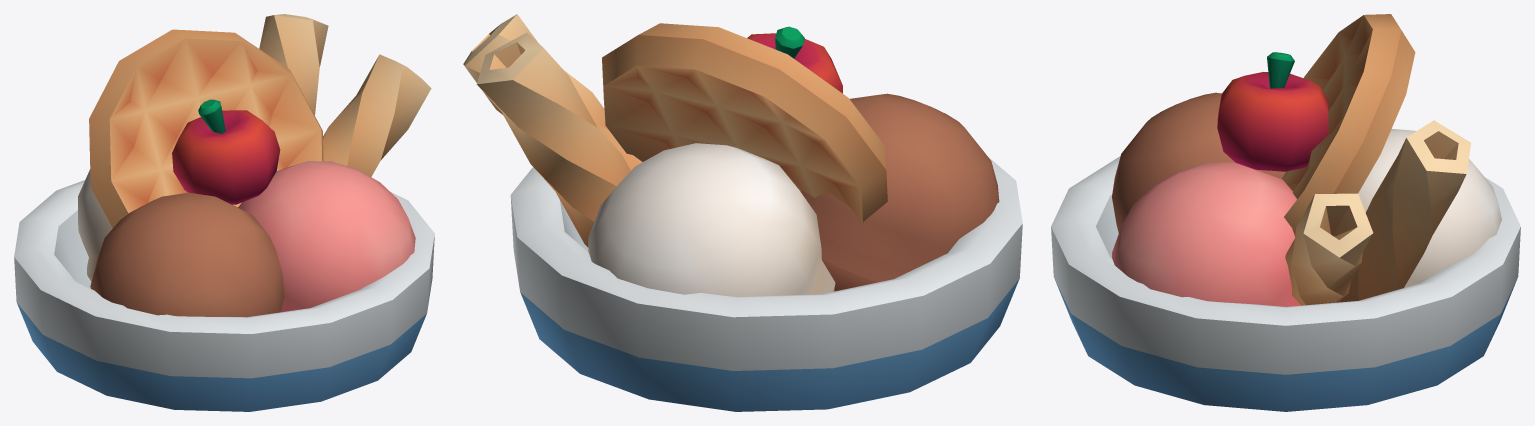
File: icecream_bowl_decorated_A.obj
3 views of the same model, side by side, from view 1: azimuth 30°, elevation 25°; view 2: azimuth 150°, elevation 25°; view 3: azimuth 270°, elevation 25° (orthographic). The views are drawn at different scales.
Parts seen in each view (by area): view 1: icecream_bowl_decorated_A_Sphere.068; view 2: icecream_bowl_decorated_A_Sphere.068; view 3: icecream_bowl_decorated_A_Sphere.068.
Boxes of the visible parts, x1,y1,x2,y2 form: icecream_bowl_decorated_A_Sphere.068: (14,14,434,411); icecream_bowl_decorated_A_Sphere.068: (463,14,1022,411); icecream_bowl_decorated_A_Sphere.068: (1051,14,1520,411).
Bounding box in the file's own units: 1.06 × 0.7217 × 0.95.
1 material, 1 textured.
